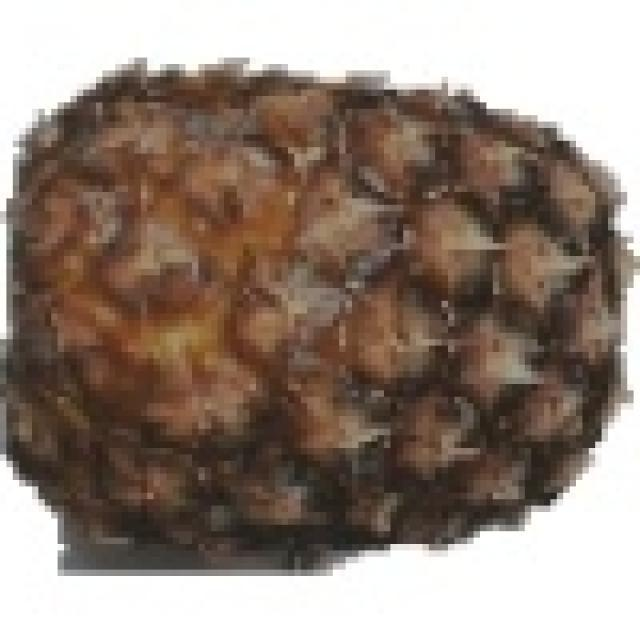pineapple: (19, 58, 627, 557)
